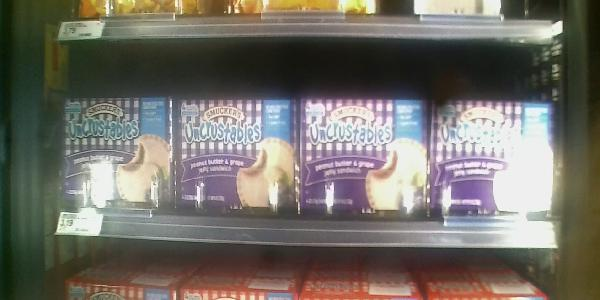icecream: (174, 82, 299, 218), (297, 96, 430, 220), (432, 97, 557, 223), (59, 83, 175, 217)
